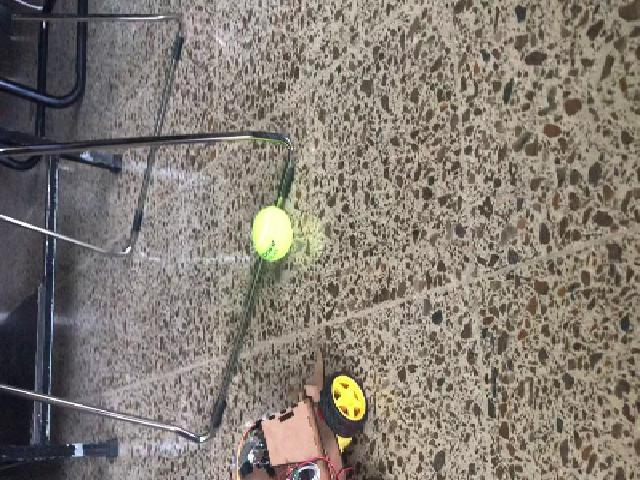Ball: (253, 205, 291, 260)
Robot: (229, 348, 365, 478)
